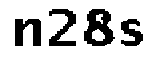2: (46, 5, 78, 49)
8: (84, 5, 114, 50)
n: (8, 17, 44, 48)
s: (117, 15, 147, 50)
